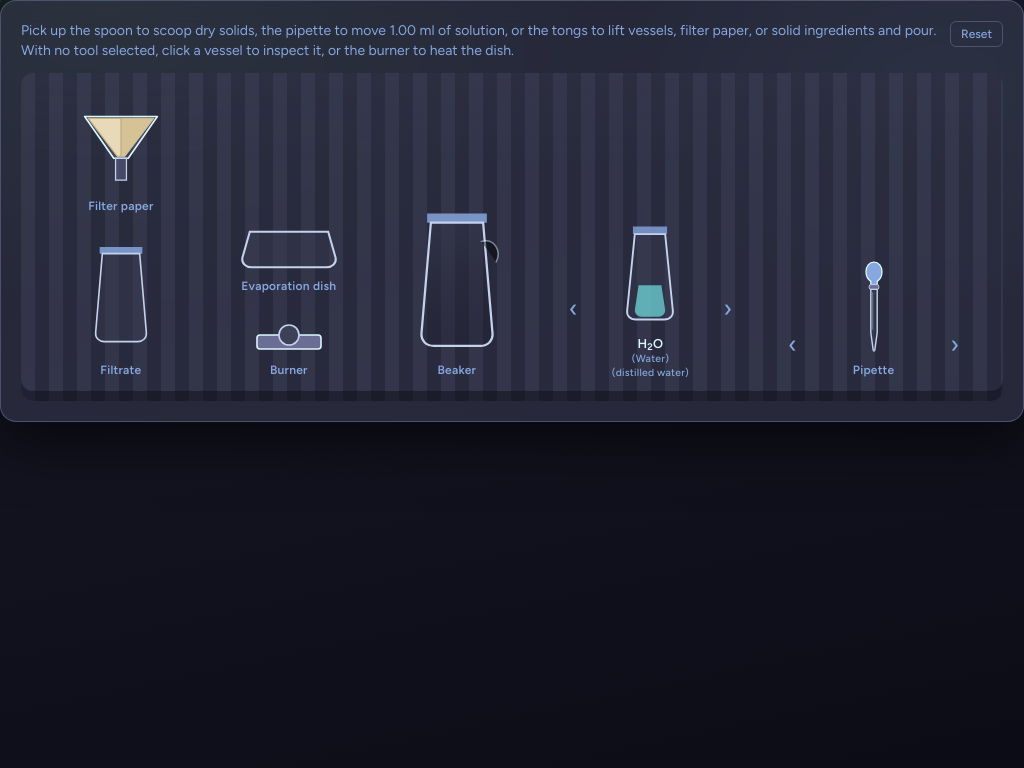
Test: LabBench inspect › idle water click shows beaker contents and temperature from the scene
Click the button "Beaker": x=457, y=287 393,189 -> 521,385
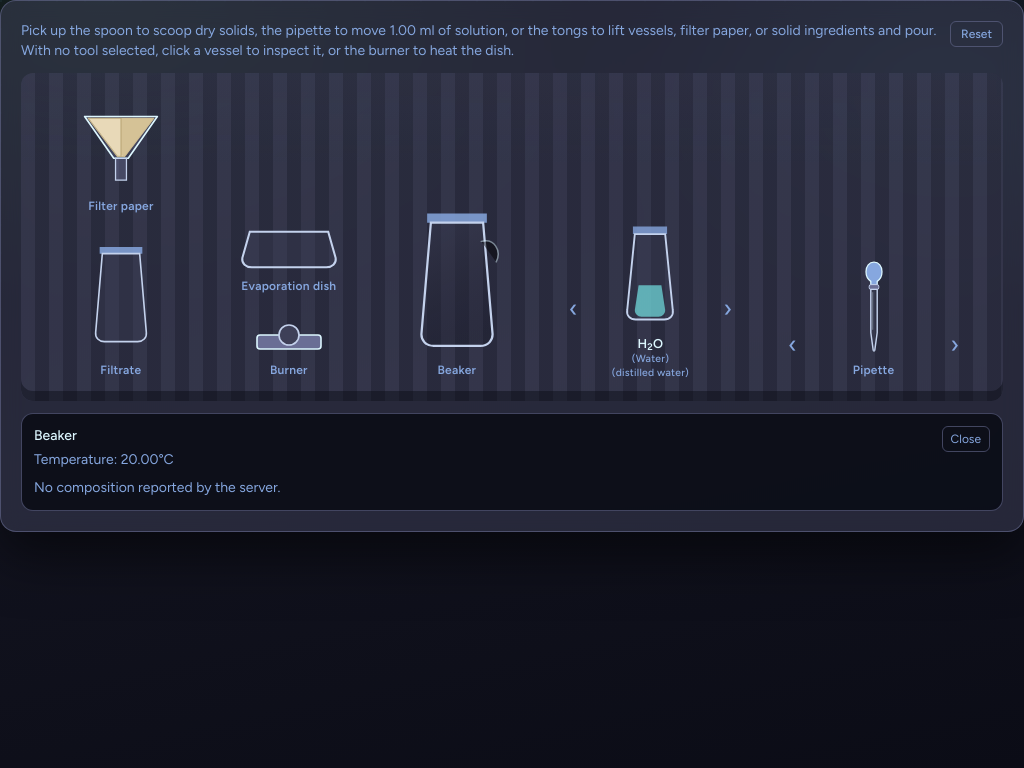
Expected: the dialog named "Contents of Beaker" shows "Beaker", 34,427 -> 77,444
Expected: the dialog named "Contents of Beaker" shows "No composition reported by the server.", 34,479 -> 280,496
Expected: the dialog named "Contents of Beaker" shows "Temperature: 20.00°C", 21,413 -> 1003,511
